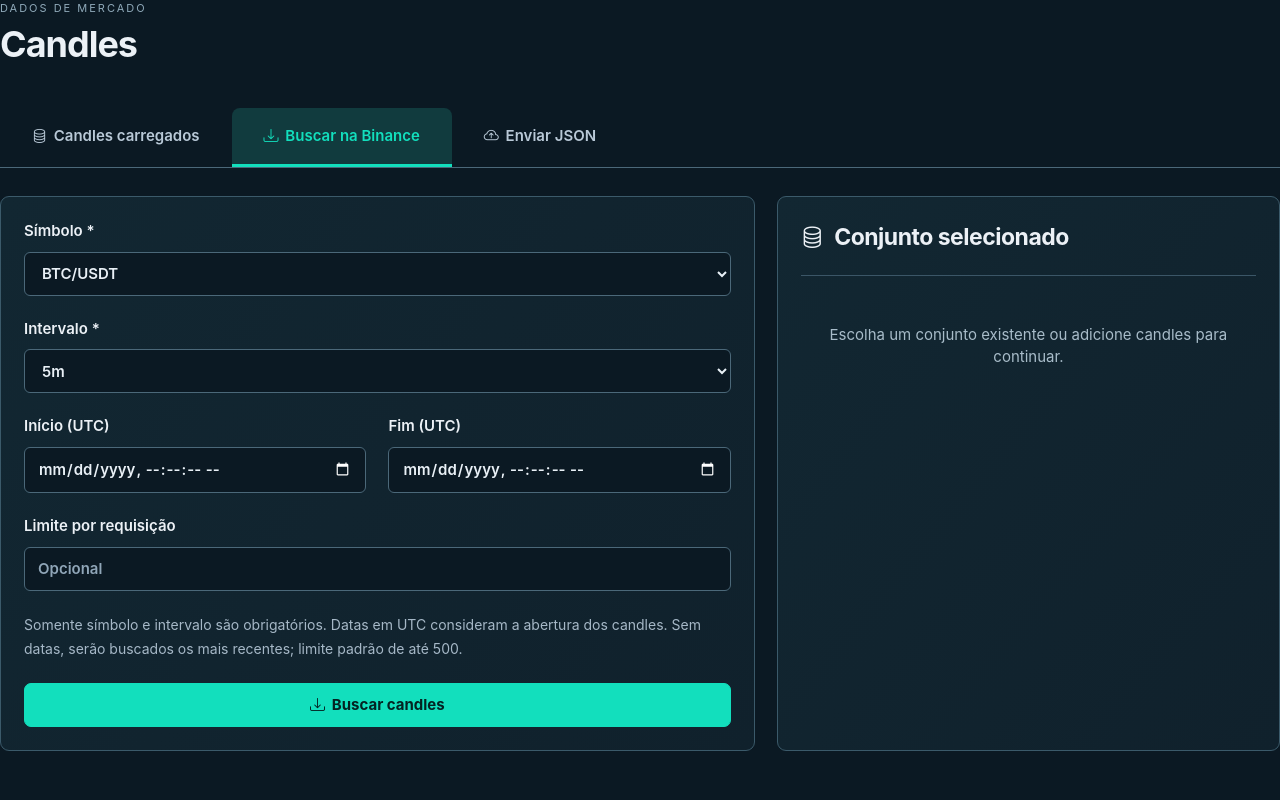
Test case: reverifica os vínculos quando uma sessão é criada com o popup aberto
Later steps or results of the test are not shown.
Click the tab "Candles carregados" at (116, 137), box [0, 108, 232, 167]
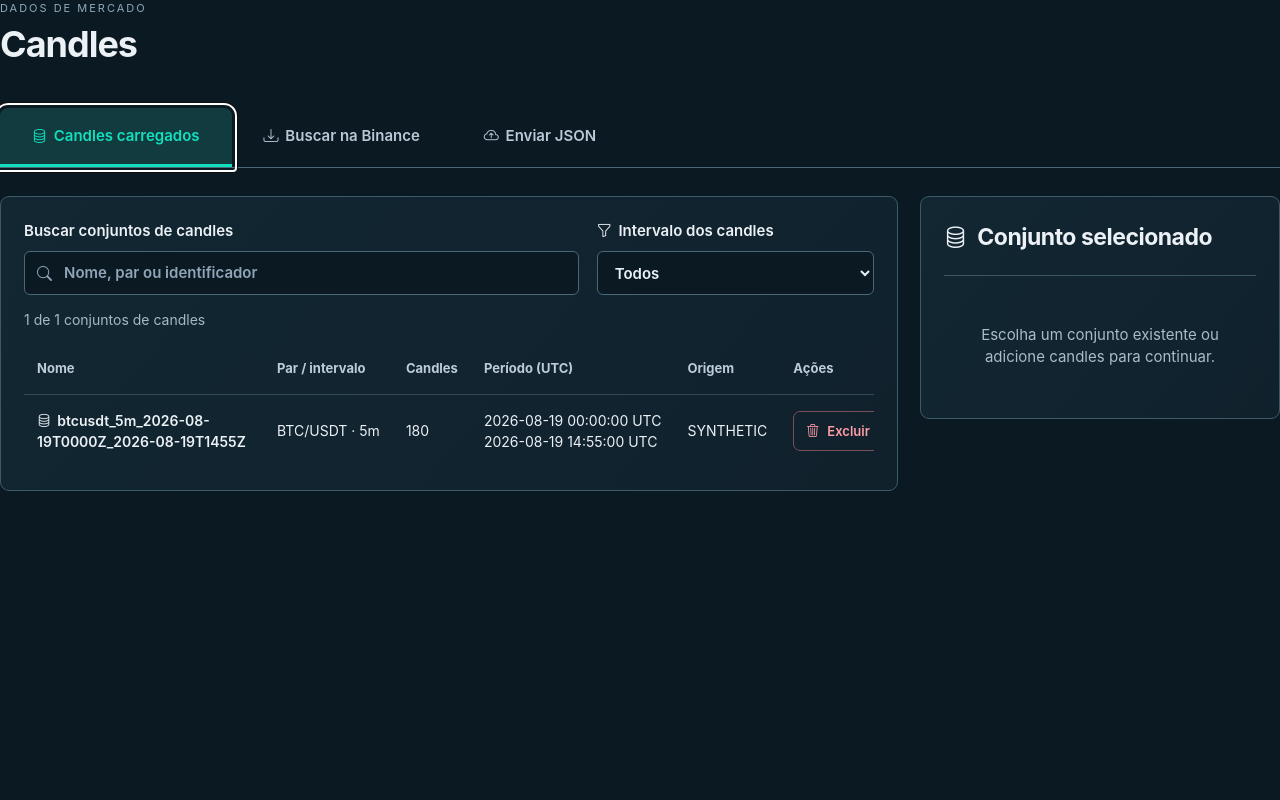
Click the button "Excluir" at (838, 431), box [793, 411, 883, 451]
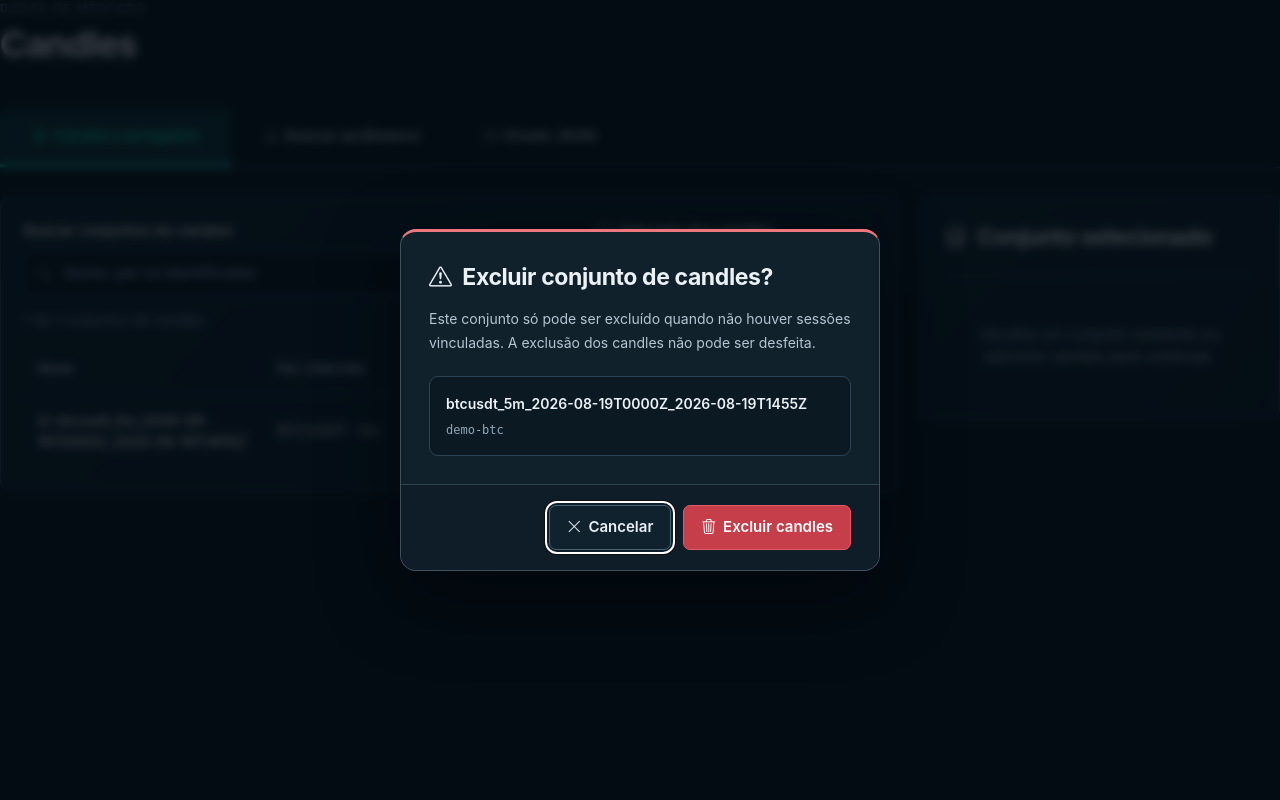
Now the button "Excluir candles" is enabled, box [683, 505, 851, 550]
